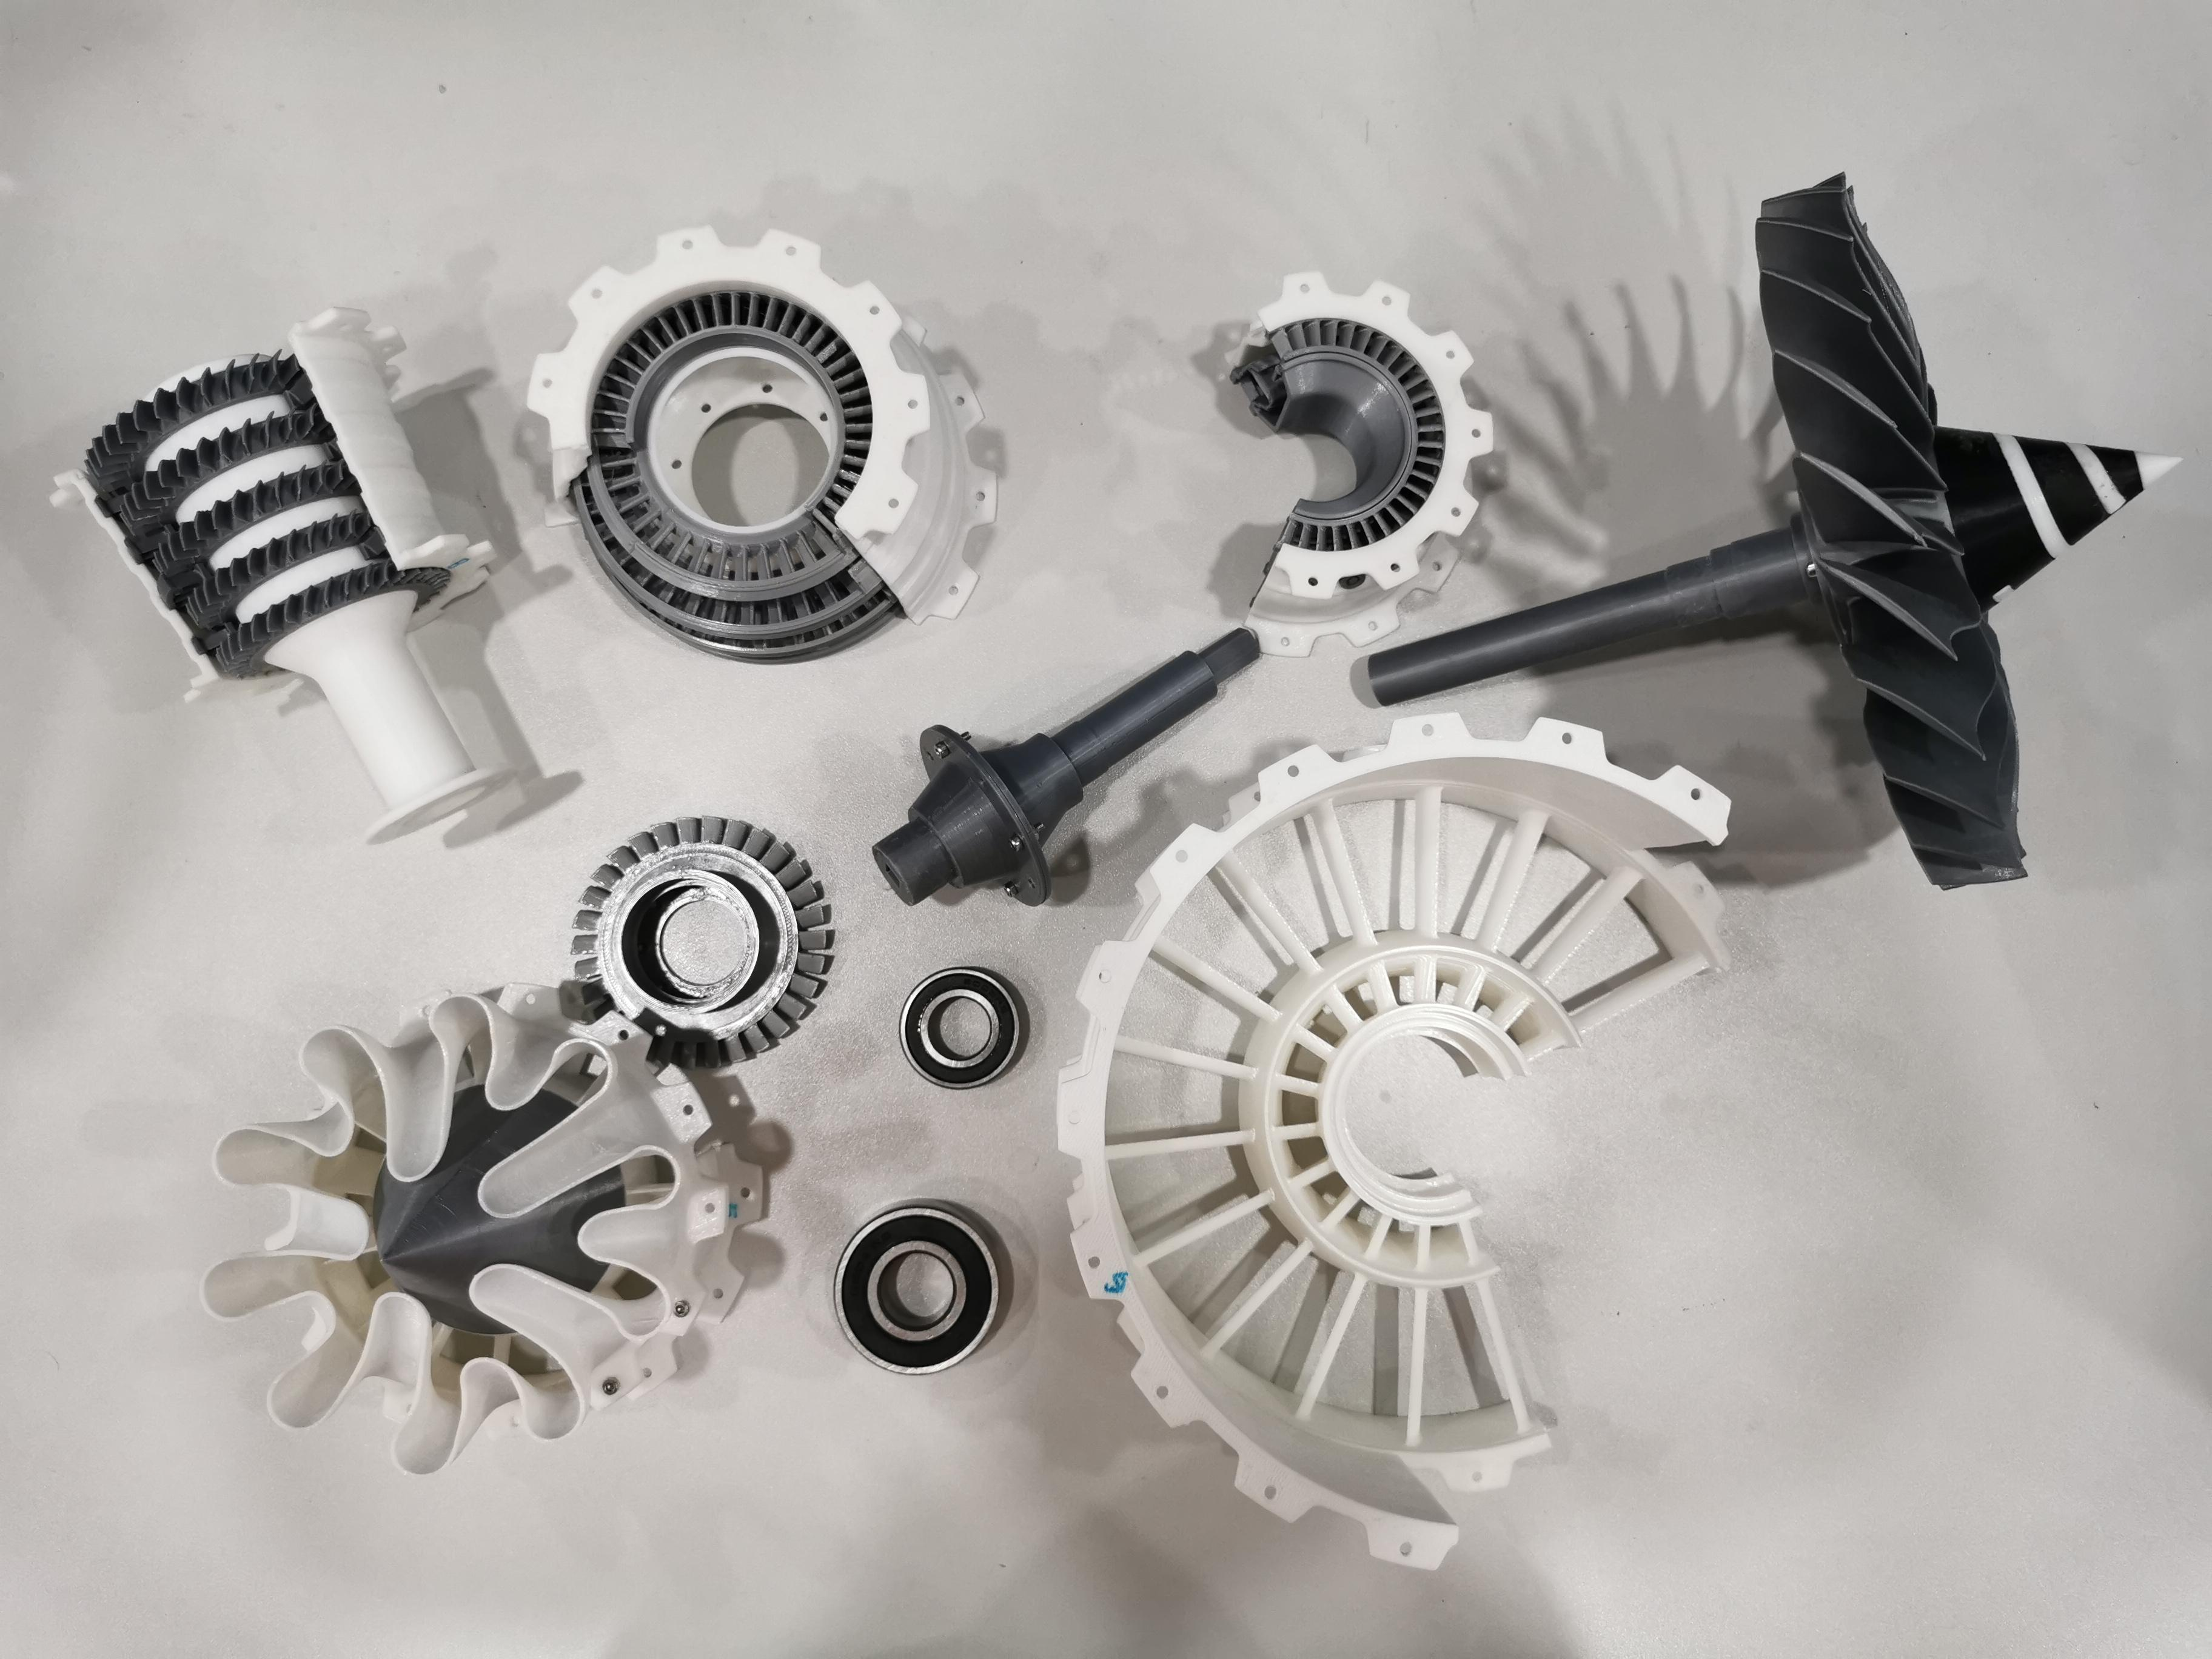Bearing-6003: (890, 955, 1035, 1107)
Bearing-6204: (822, 1182, 1024, 1394)
Combustion Section: (1200, 256, 1524, 667)
Fan Casing and Support: (1047, 699, 1747, 1575)
Fan and Low Pressure Shaft: (1350, 162, 2195, 906)
HPT Section: (550, 803, 853, 1091)
High Pressure Spool: (37, 291, 507, 856)
LPT Section: (521, 211, 1008, 678)
Low Pressure Spool: (860, 619, 1270, 924)
Nozzle Section: (192, 979, 782, 1483)
